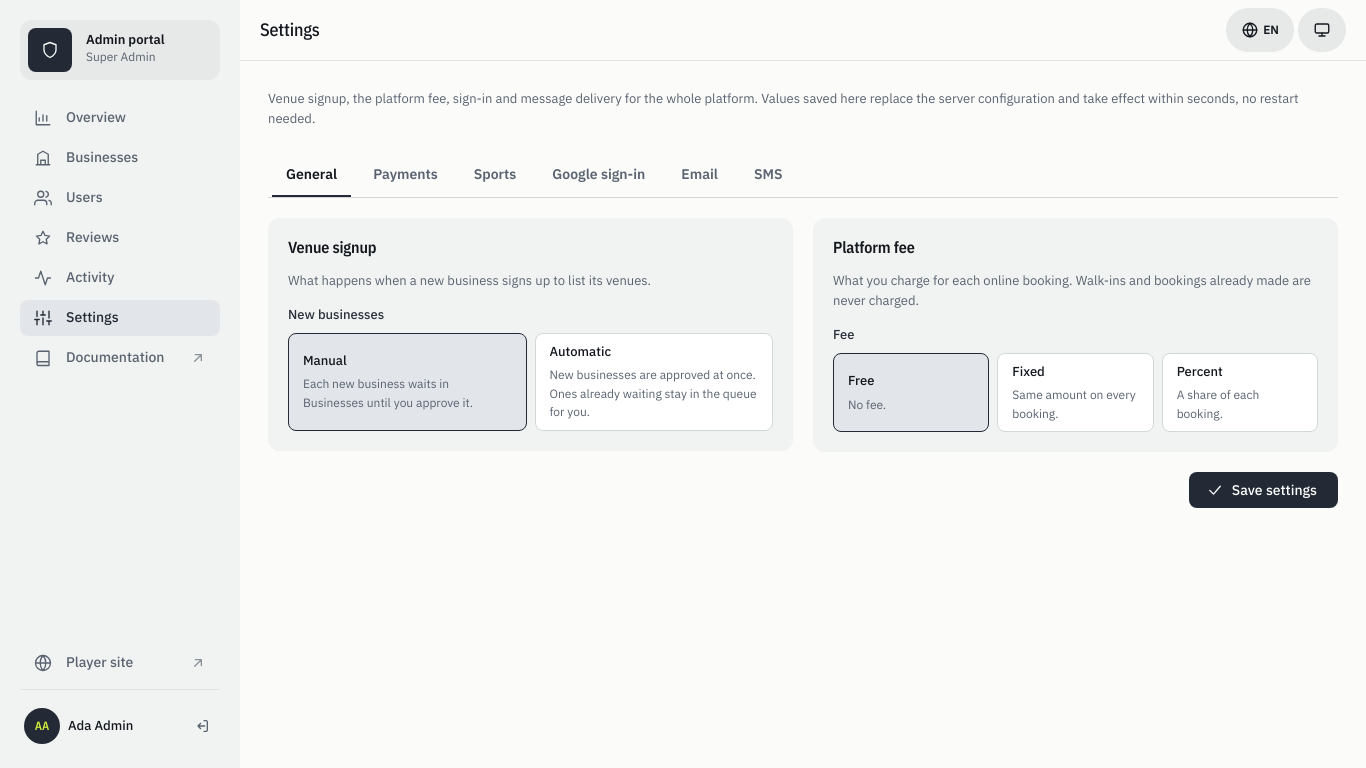
Test case: admin settings: General › free hides the amount fields
The width and height of the screenshot is (1366, 768).
Expected: the radio button labelled "Free" is checked, [833,353,989,432]
Expected: the field labelled "Amount per booking" is not shown
Click the radio button labelled "Fixed". click: {"x": 1075, "y": 393}
box: [997,353,1154,432]
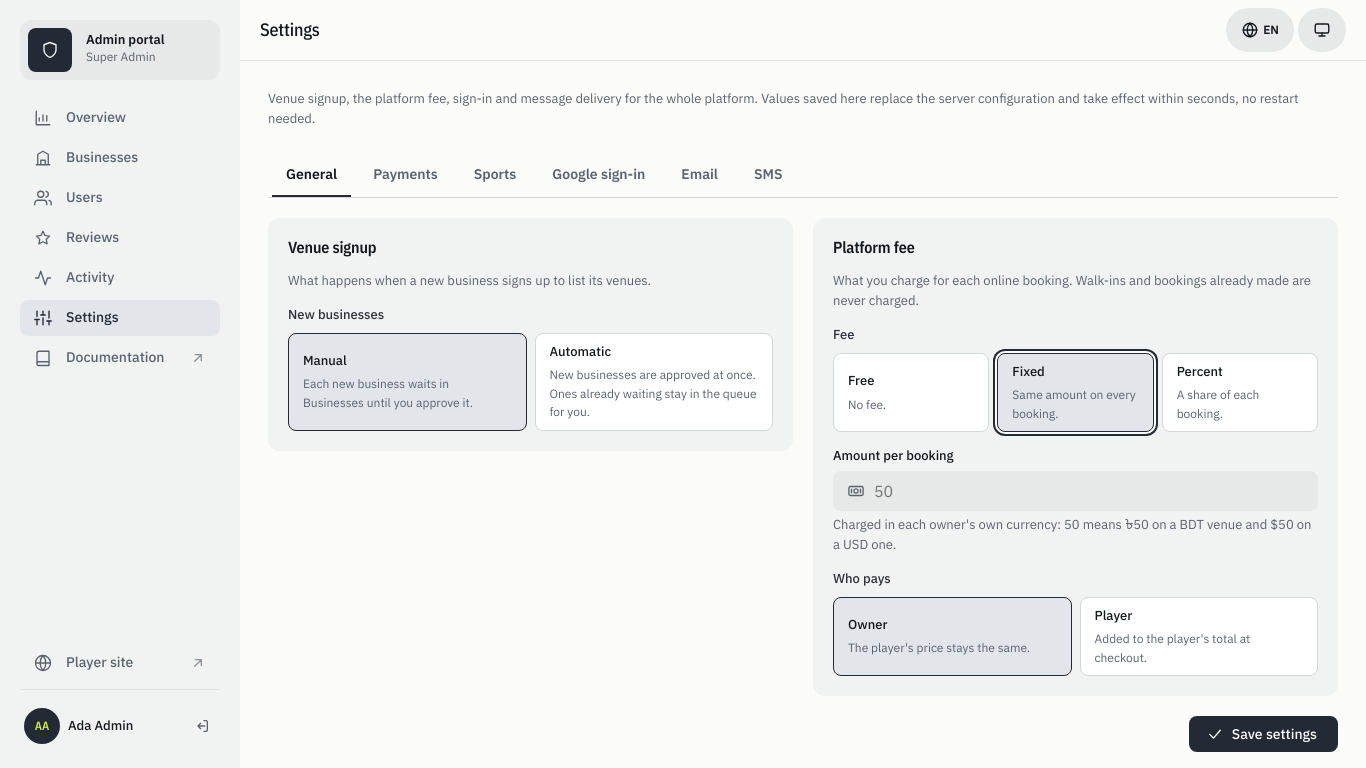
Expected: the field labelled "Amount per booking" is shown, [833,471,1318,511]
Click the radio button labelled "Free". click: {"x": 911, "y": 393}
box: [833,353,989,432]
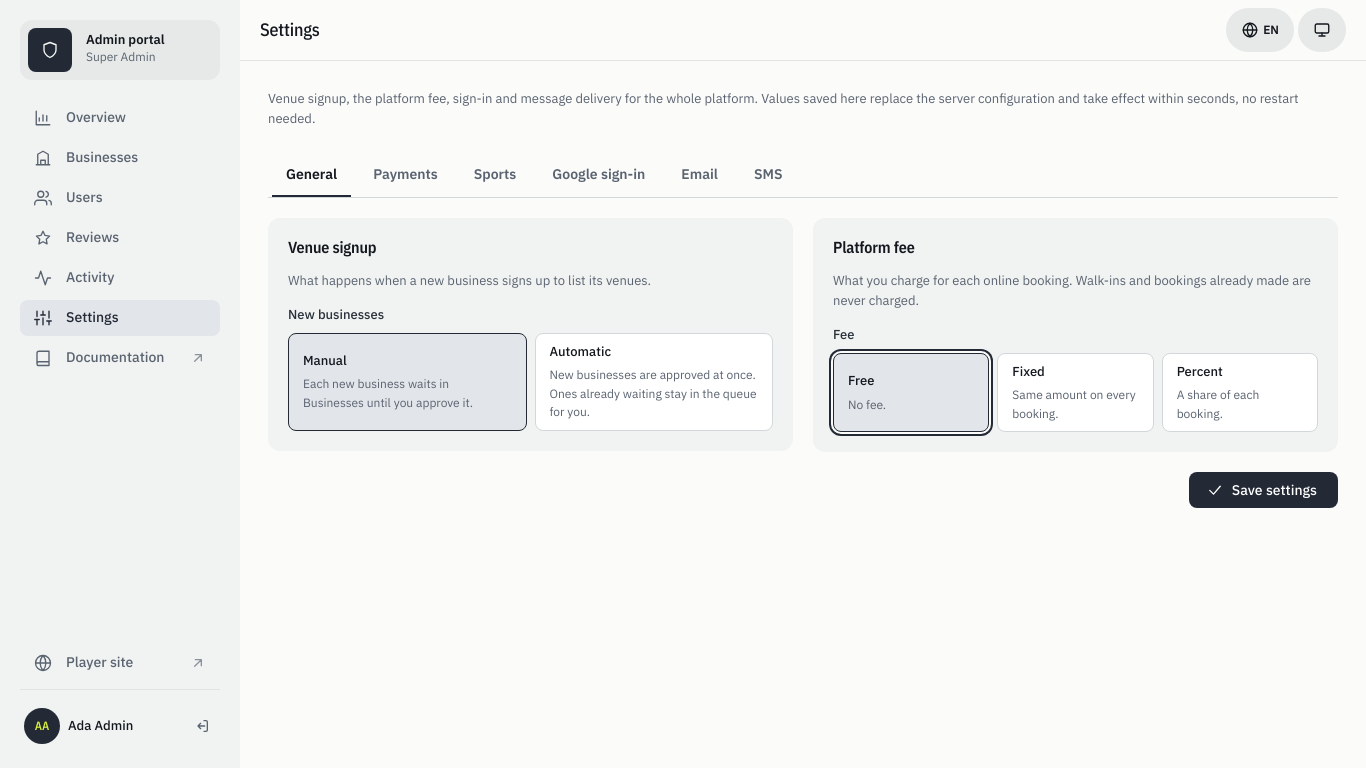
Expected: the label labelled "Amount per booking" is gone
